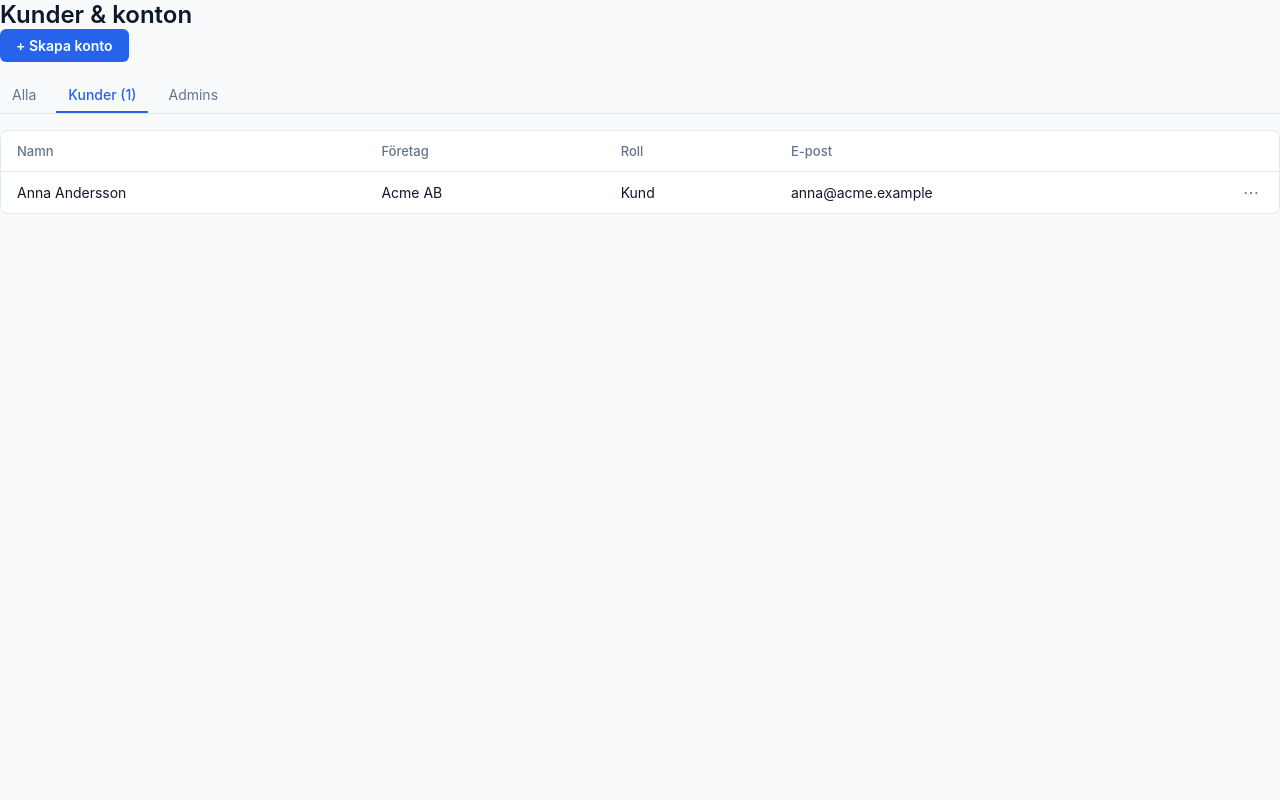
AdminAccountsPage › opens the delete dialog for the clicked customer
Step 1. Click the button named "Fler alternativ" → (1251, 192), box [1239, 184, 1263, 200]
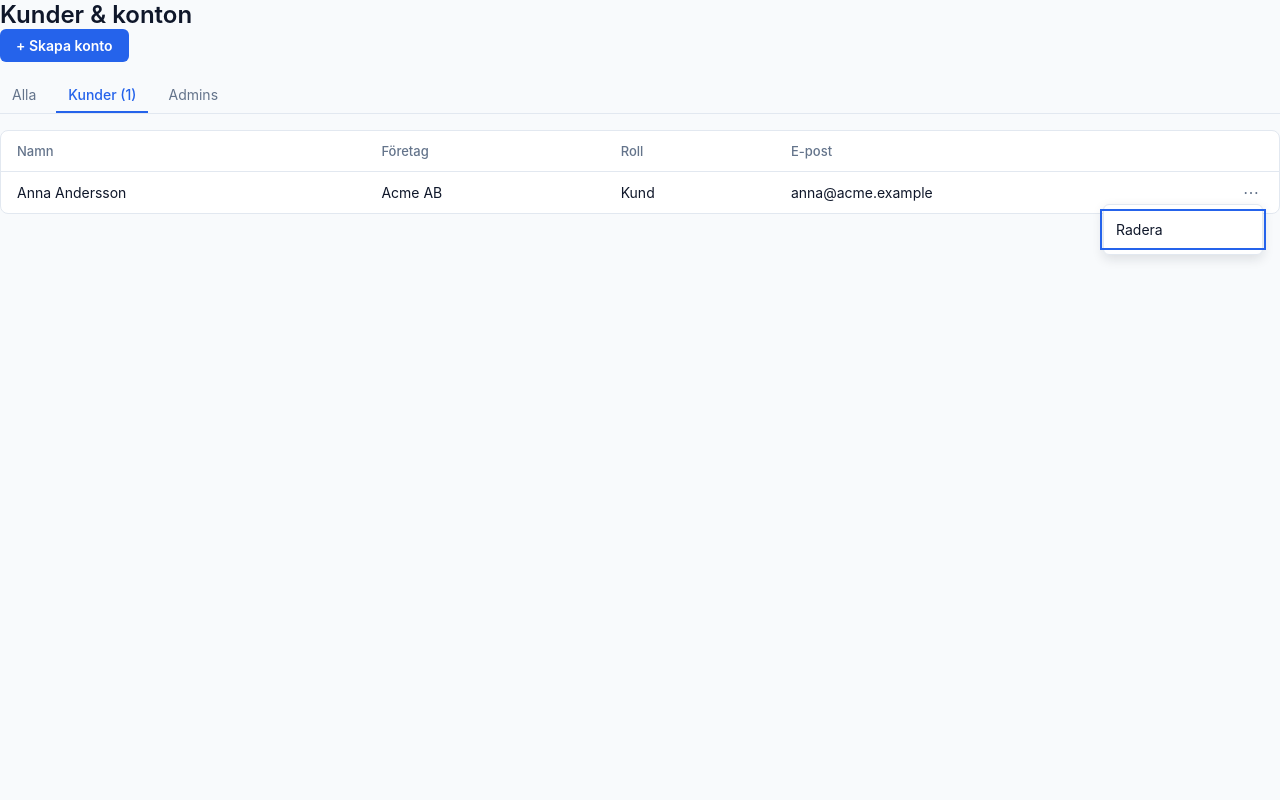
Step 2. Click the menu item "Radera" → (1183, 230), box [1104, 213, 1262, 246]
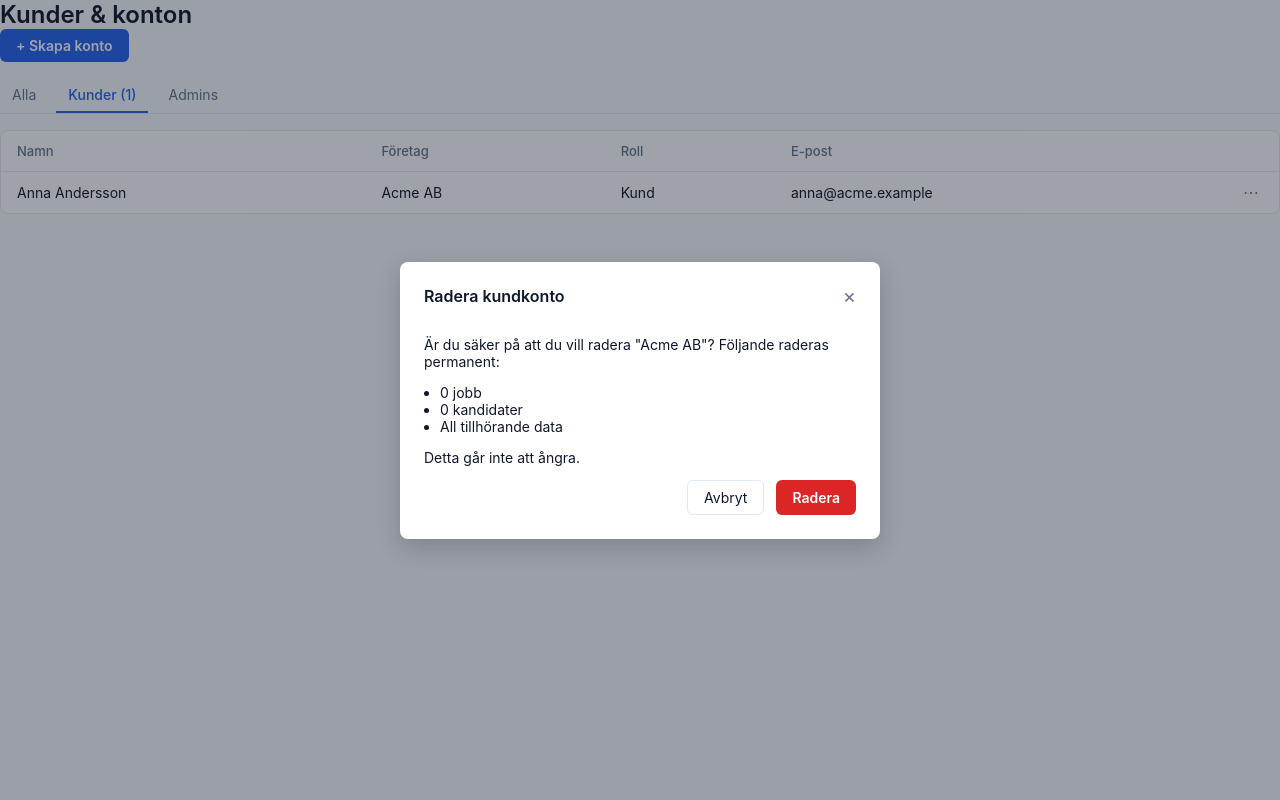
Result: the heading "Radera kundkonto" is shown at [424, 286, 565, 306]
Result: the text "Acme AB" is shown at [640, 336, 701, 352]
